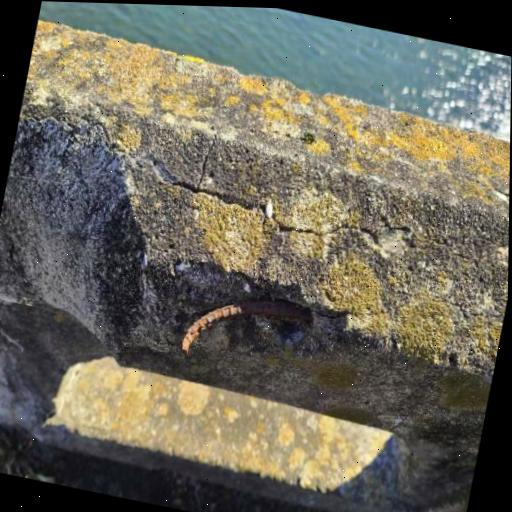exposed_rebar: (180, 299, 312, 352)
